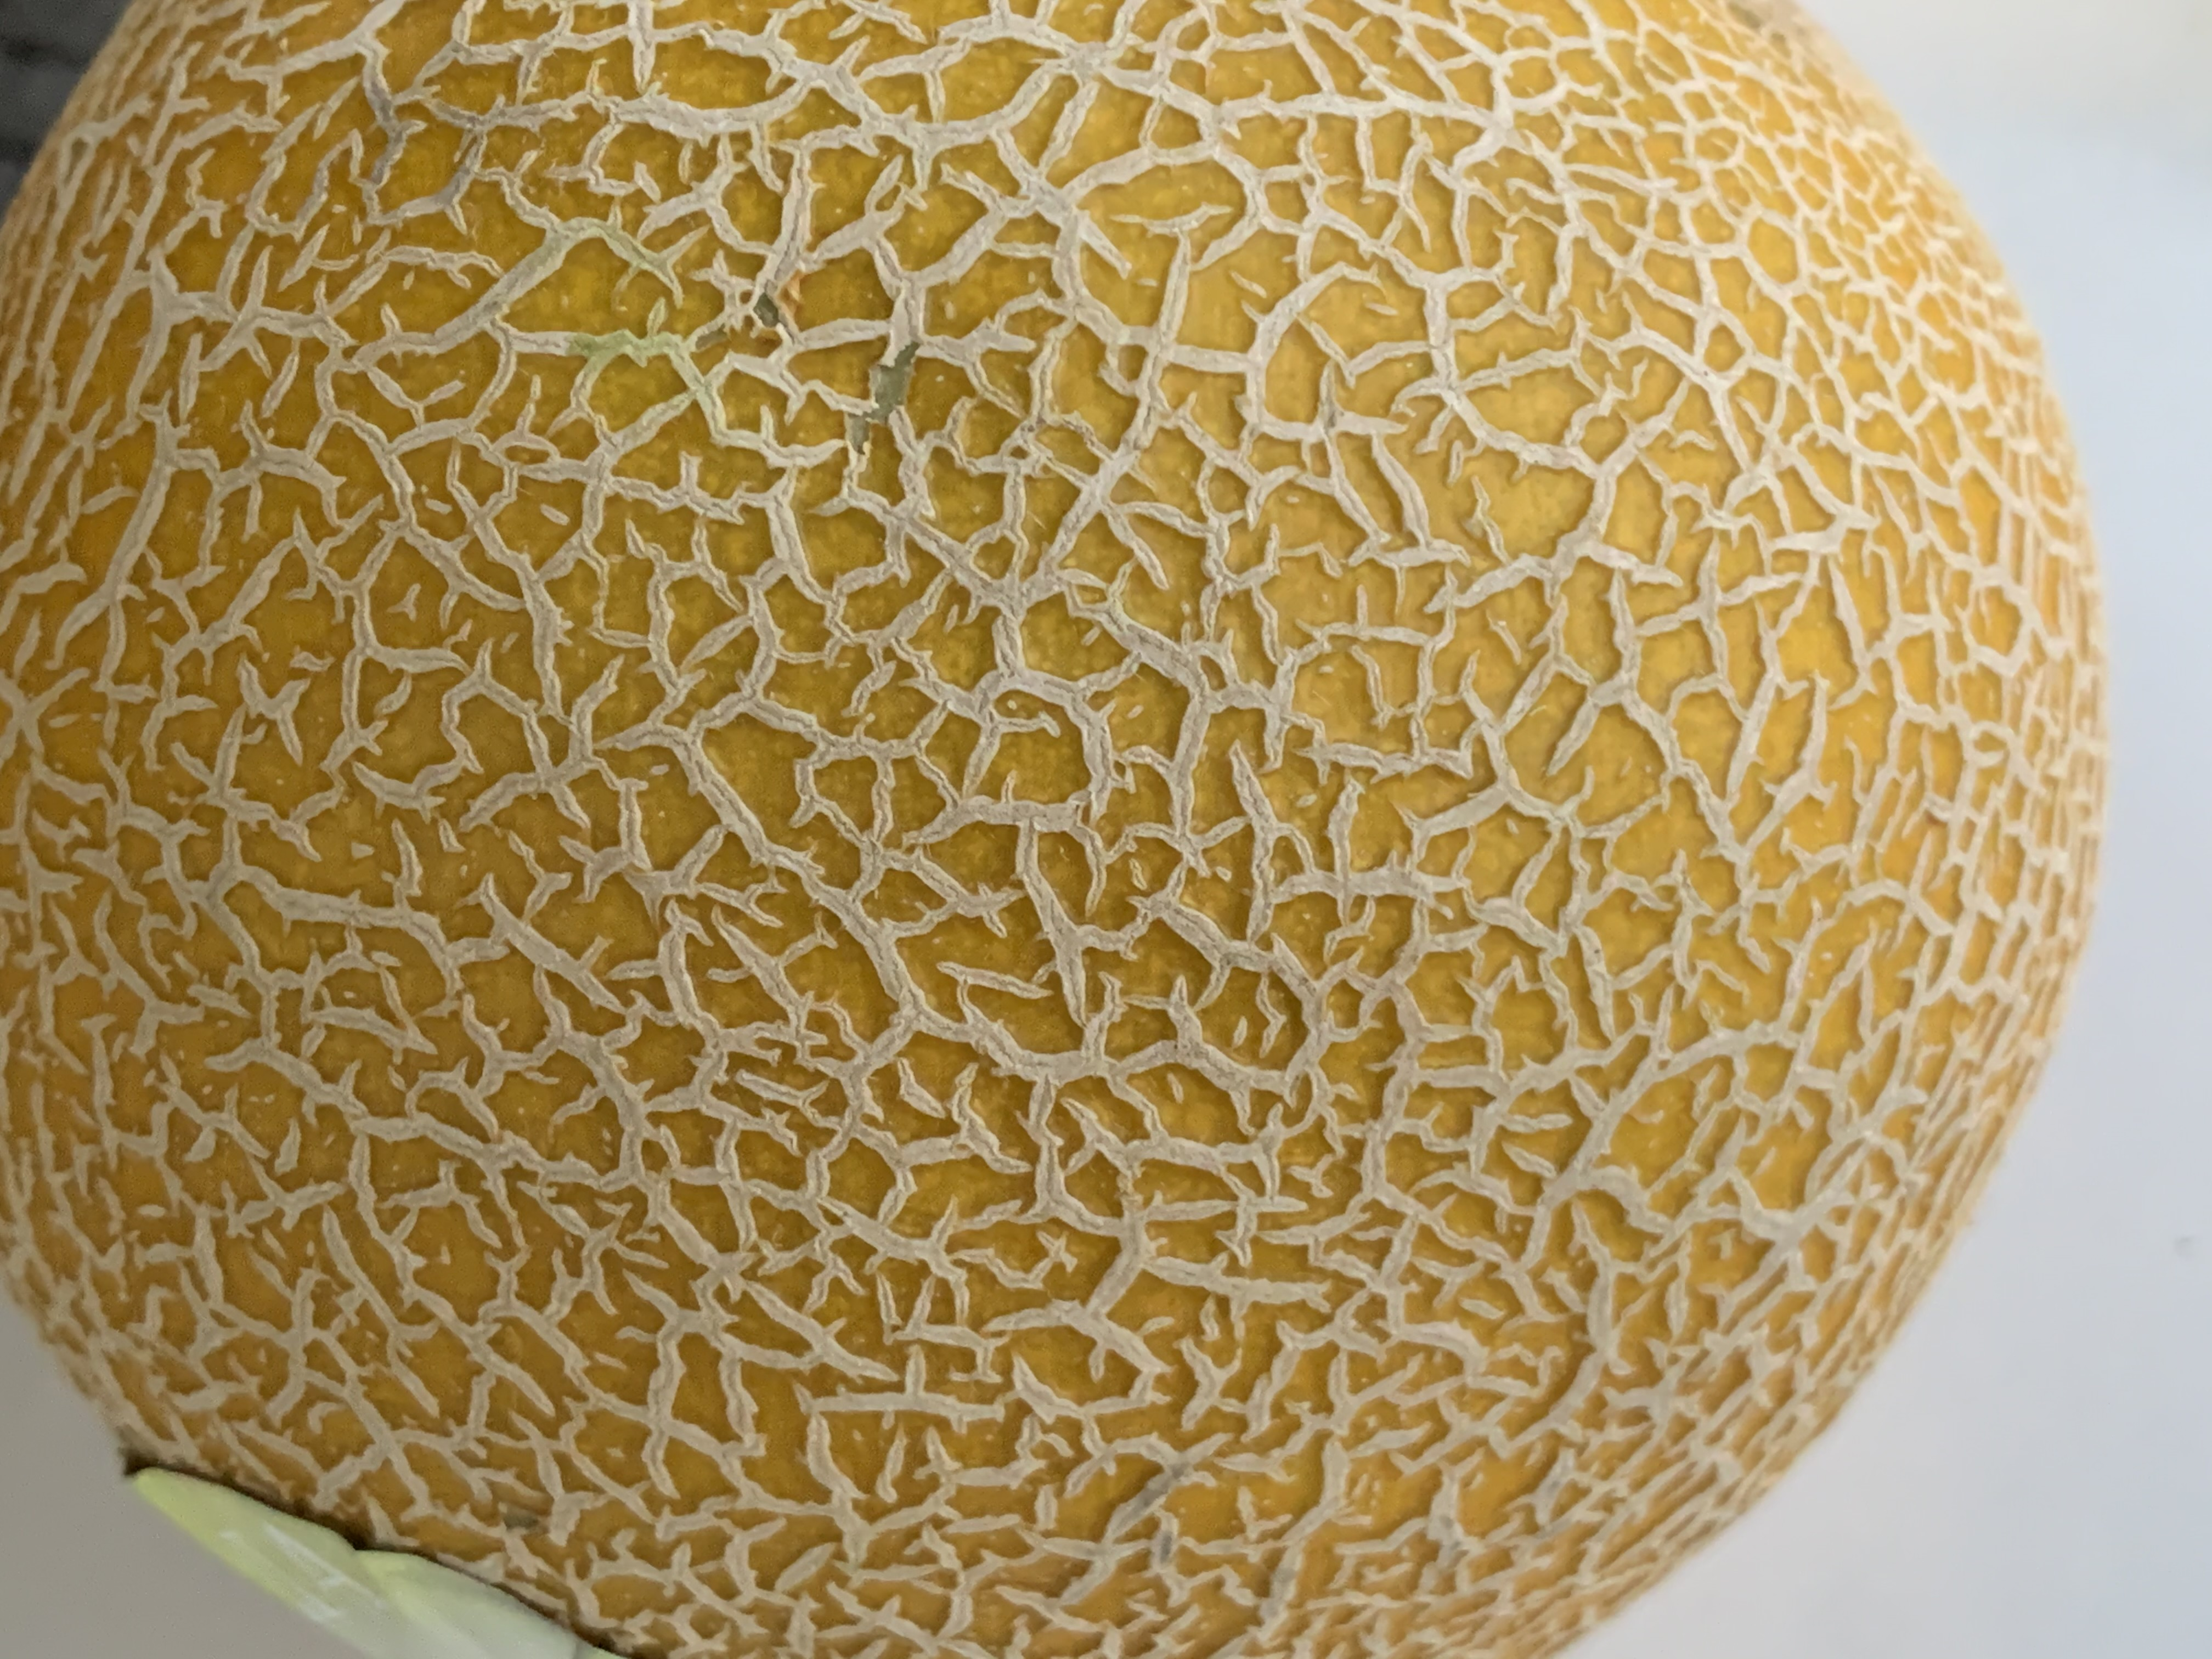galia melon: (17, 12, 2142, 1659)
